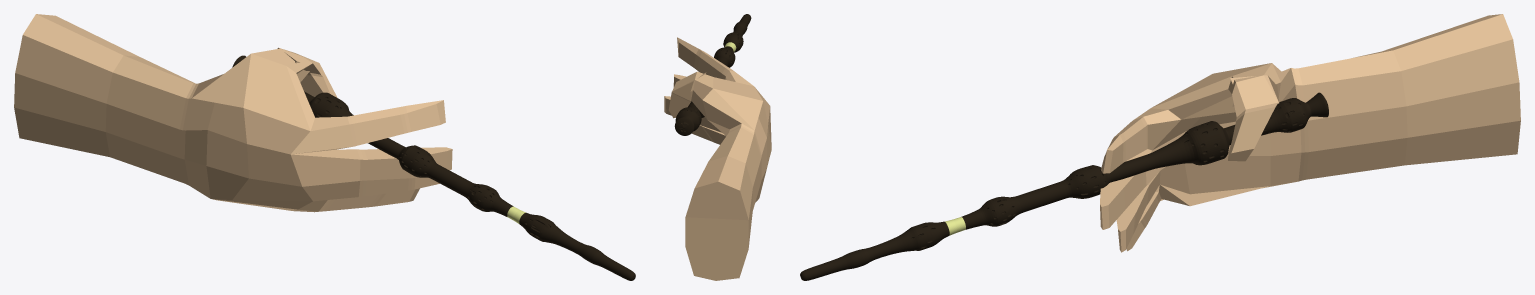
File: Wand-Hand.fbx
3 views of the same model, side by side, from view 1: azimuth 30°, elevation 25°; view 2: azimuth 150°, elevation 25°; view 3: azimuth 270°, elevation 25° (orthographic). The views are drawn at different scales.
Visible parts, largest first — view 1: Cube, Cylinder; view 2: Cube, Cylinder; view 3: Cube, Cylinder.
Part boxes in pixels (x1,y1,x2,y2): Cube: (14,14,452,212); Cylinder: (232,55,635,280); Cube: (664,37,771,280); Cylinder: (674,14,751,135); Cube: (1100,14,1520,252); Cylinder: (800,92,1328,280).
Size of the model in its own units: 765 by 314 by 1377.
